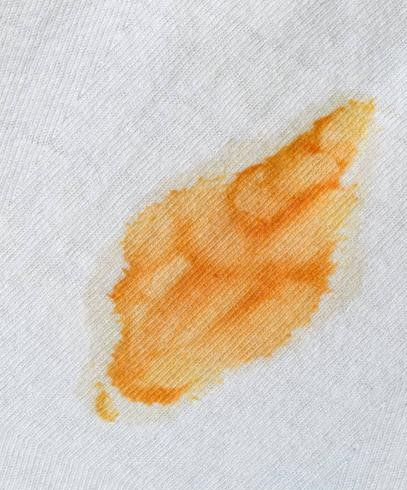stain: (95, 63, 385, 436)
